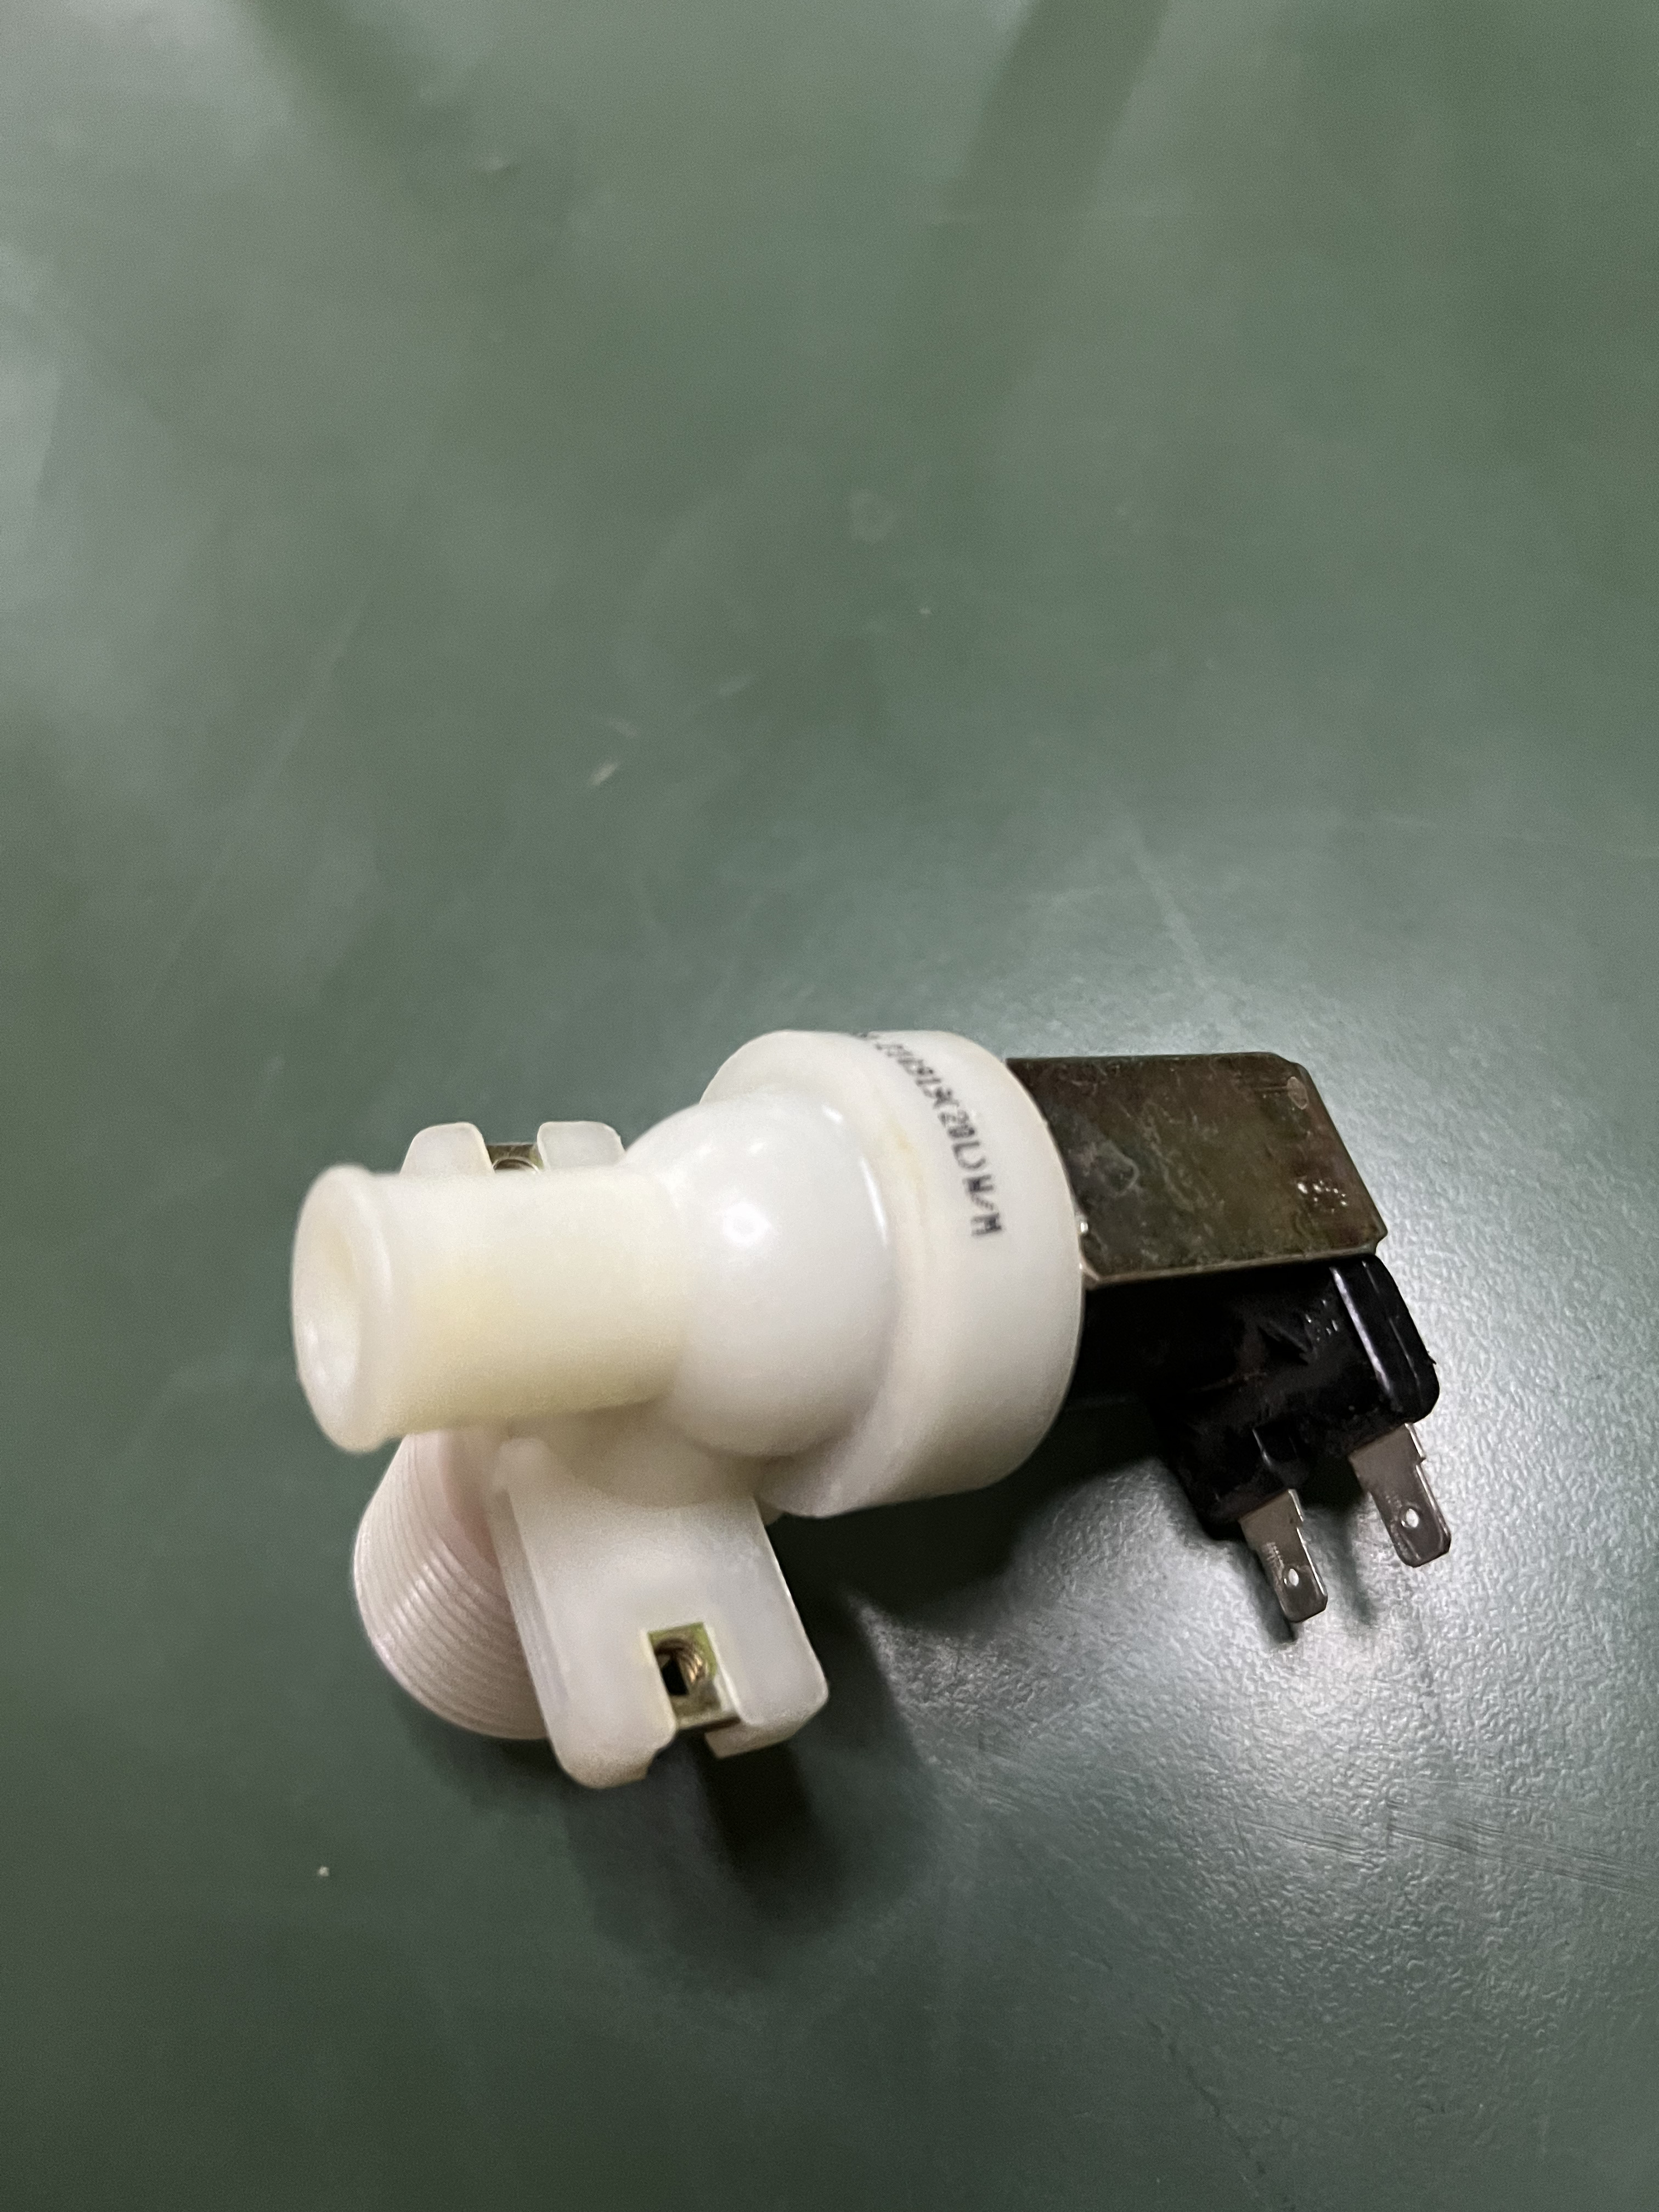godrej_inlet_valves: (275, 958, 1480, 1876)
